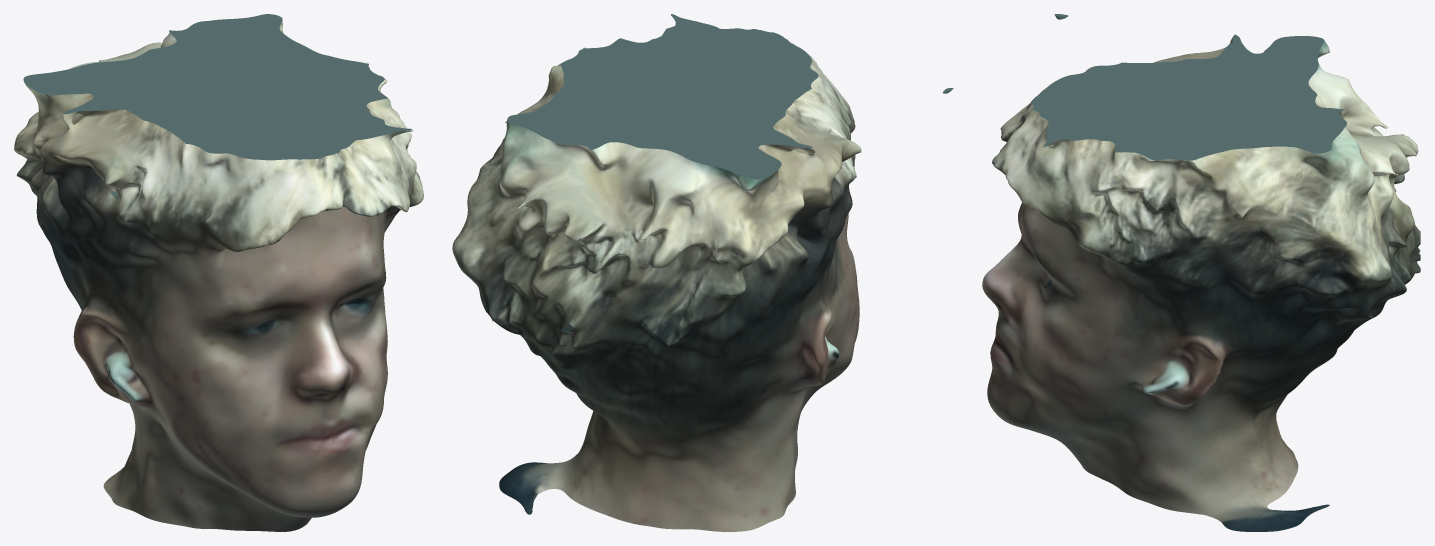
File: kiri-scan1.glb
The picture shows the model from 3 angles, left to right: view 1: azimuth 30°, elevation 25°; view 2: azimuth 150°, elevation 25°; view 3: azimuth 270°, elevation 25°; orthographic projection. The views are drawn at different scales.
Parts seen in each view (by area): view 1: 3DModel; view 2: 3DModel; view 3: 3DModel.
Boxes of the visible parts, x1,y1,x2,y2 form: 3DModel: [14, 14, 423, 531]; 3DModel: [452, 14, 953, 531]; 3DModel: [982, 14, 1420, 531].
Bounding box in the file's own units: 0.5926 × 0.628 × 0.6864.
Materials: 1 (1 with a texture image).
